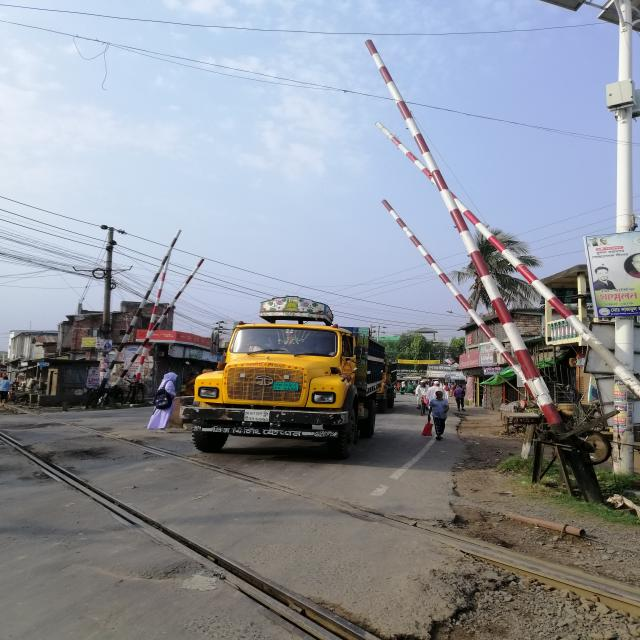Truck: (182, 296, 401, 462)
